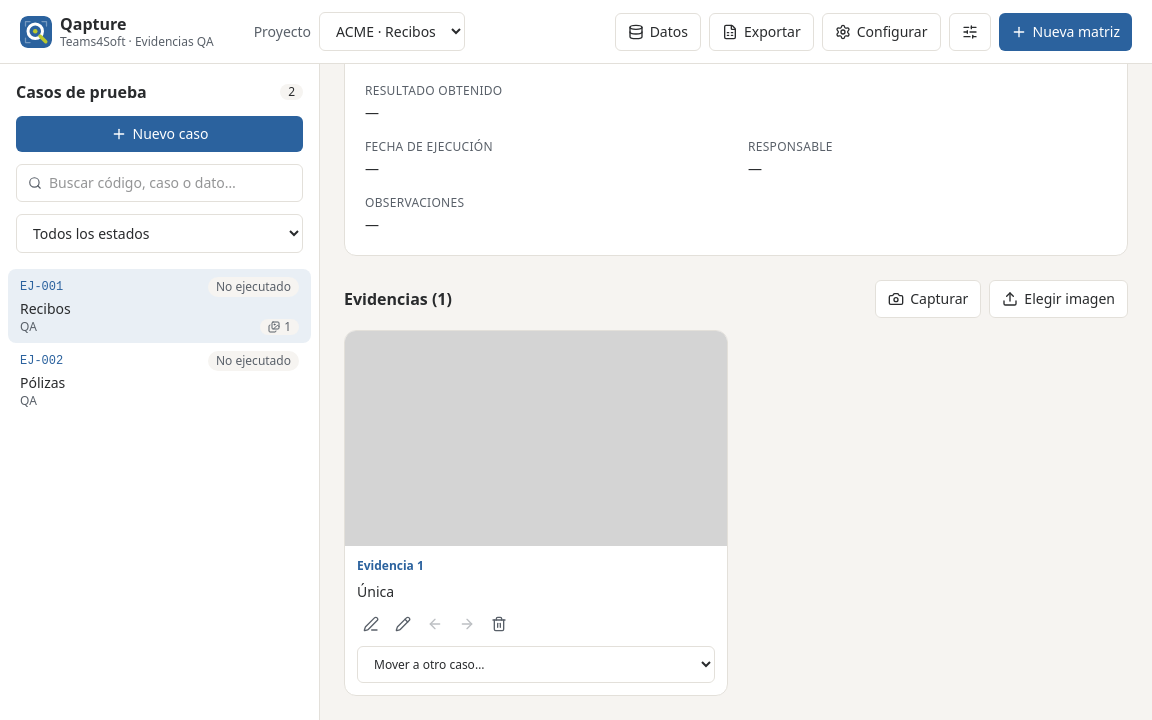
Scenario: galería de evidencias › reasigna a otro caso y elimina con confirmación
The width and height of the screenshot is (1152, 720).
(page scrolled)
Expected: the heading "Evidencias (1)" is shown, [344, 287, 452, 311]
Step 1. Select "EJ-002 · Pólizas" in the dropdown named "Mover evidencia 1 a otro caso" → x=536, y=664, box [357, 646, 715, 683]
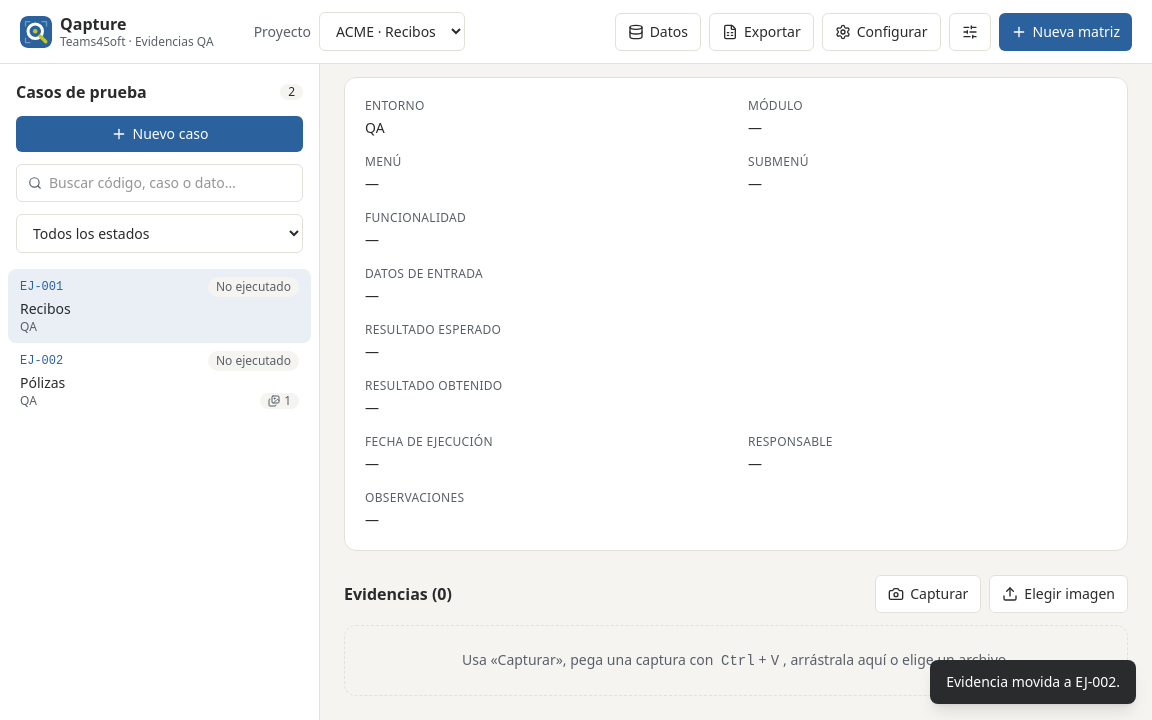
Expected: the element named "1 evidencia" is shown, [260, 393, 299, 409]
Now the text "Evidencia movida a EJ-002." is shown, box [946, 672, 1120, 692]
Now the heading "Evidencias (0)" is shown, box [344, 582, 452, 606]
Step 2. Click the text "Pólizas" → x=43, y=382, box [20, 373, 65, 392]
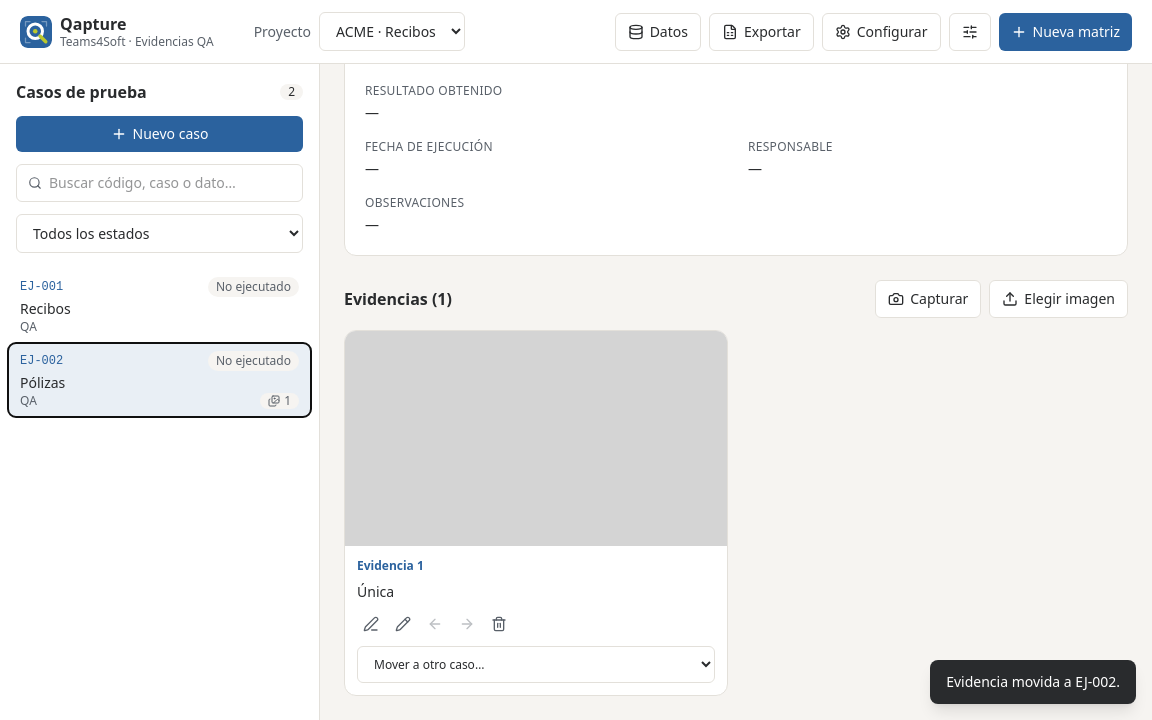
Now the heading "Evidencias (1)" is shown, box [344, 287, 452, 311]
Step 3. Click the button named "Eliminar evidencia 1" → x=499, y=624, box [485, 610, 513, 638]
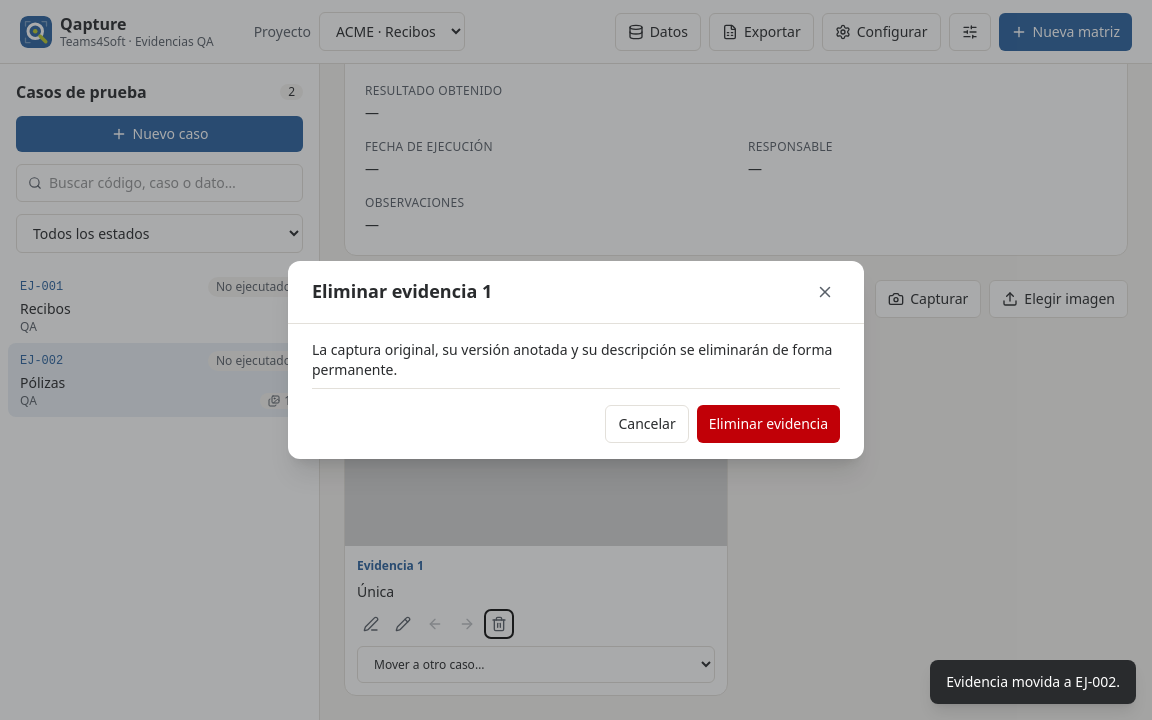
Step 4. Click the button "Eliminar evidencia" → x=768, y=424, box [697, 405, 840, 443]
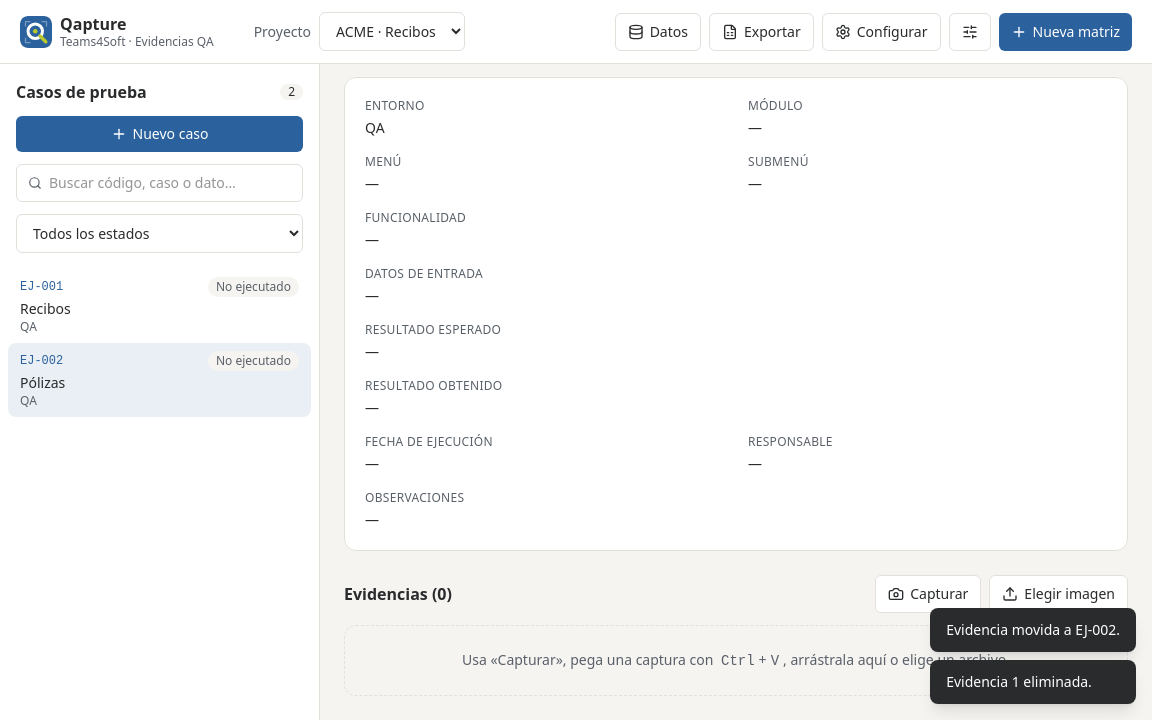
Now the text "Evidencia 1 eliminada." is shown, box [946, 672, 1092, 691]
